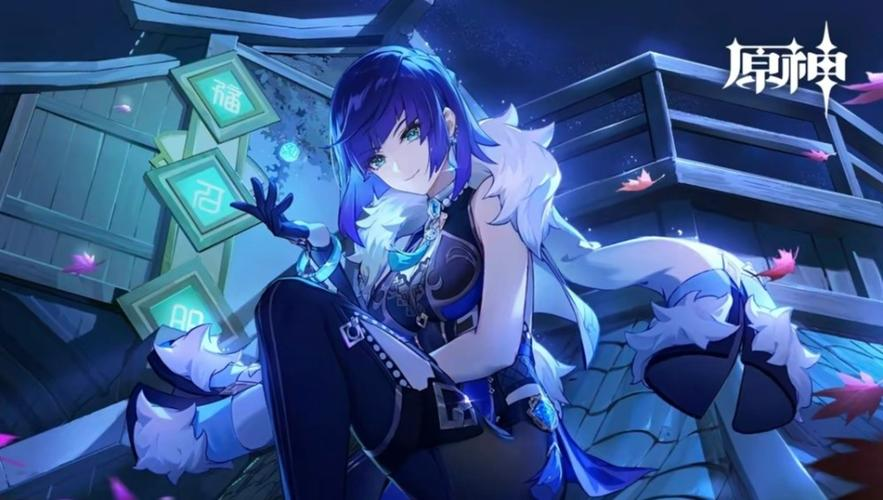夜兰: (216, 49, 571, 500)
